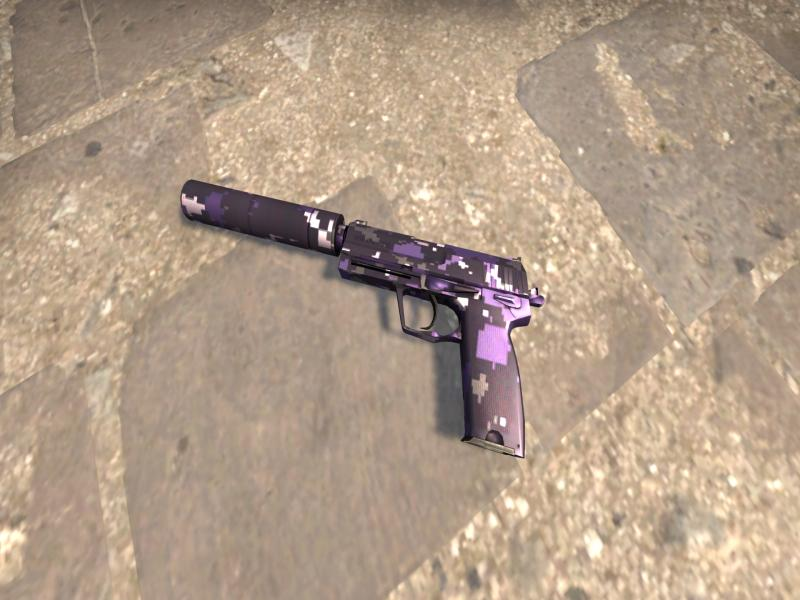USP: (181, 179, 545, 457)
